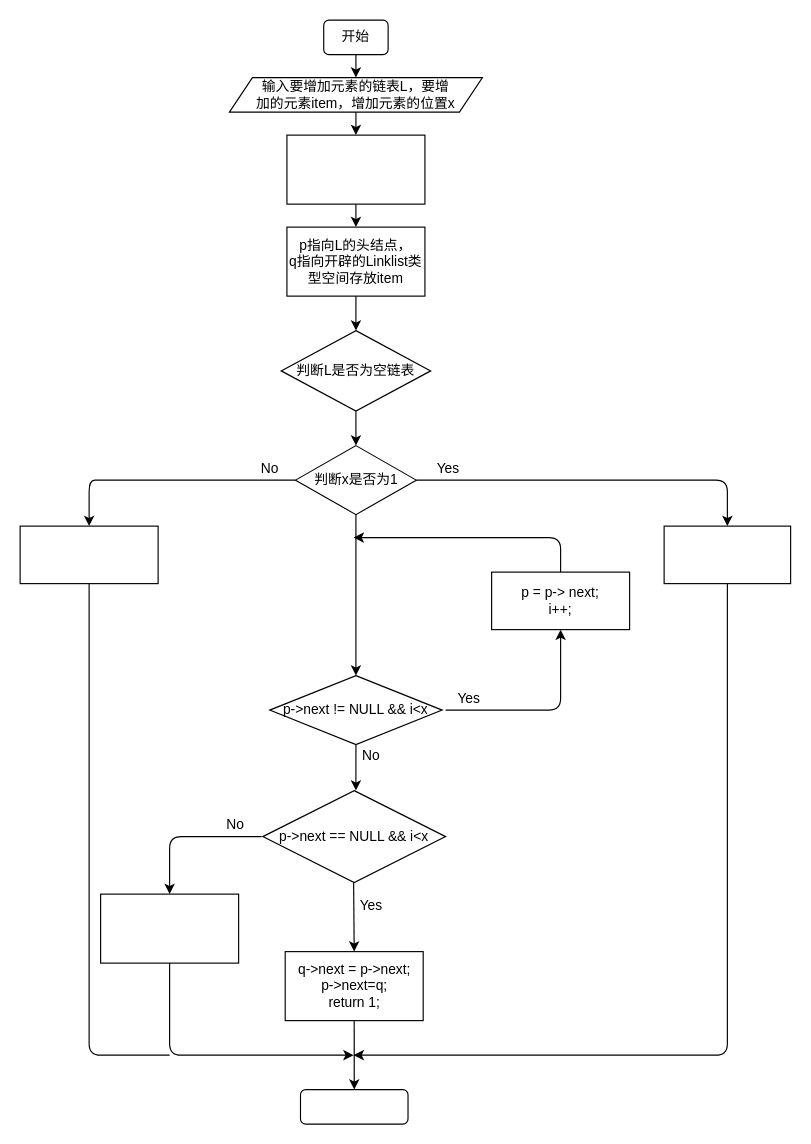
Image size: 811x1144. Some labels were removed from this diagram. Here are the shapes that lost their labels. From the top down, the box of each, then its label:
(286, 134, 425, 204): 创建Linklist类型指针*p,*q,以及用来计数的int类型 i
(19, 525, 158, 584): printf("error"); return 0;
(663, 525, 791, 584): q->next = NULL; p->next = q; return 1;
(99, 893, 239, 963): printf("Out of index"); return 0;
(299, 1088, 408, 1124): 结束
